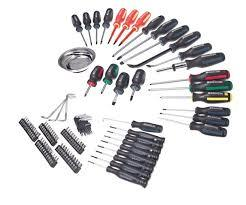screwdriver: (118, 23, 190, 65), (115, 17, 178, 61), (111, 13, 164, 57), (85, 159, 149, 188), (102, 133, 159, 161), (90, 154, 150, 180), (157, 116, 227, 138), (105, 127, 161, 154), (98, 137, 158, 162), (148, 69, 231, 86), (93, 149, 154, 171), (96, 143, 156, 165), (108, 123, 166, 145), (116, 10, 150, 46), (158, 111, 230, 127), (111, 7, 138, 45), (147, 81, 231, 92), (157, 91, 234, 102), (105, 7, 125, 44), (109, 70, 128, 106), (98, 63, 119, 94), (127, 67, 146, 101), (83, 64, 102, 96), (69, 13, 87, 45), (98, 7, 113, 44), (160, 106, 230, 112), (82, 11, 92, 44), (92, 9, 100, 45)
